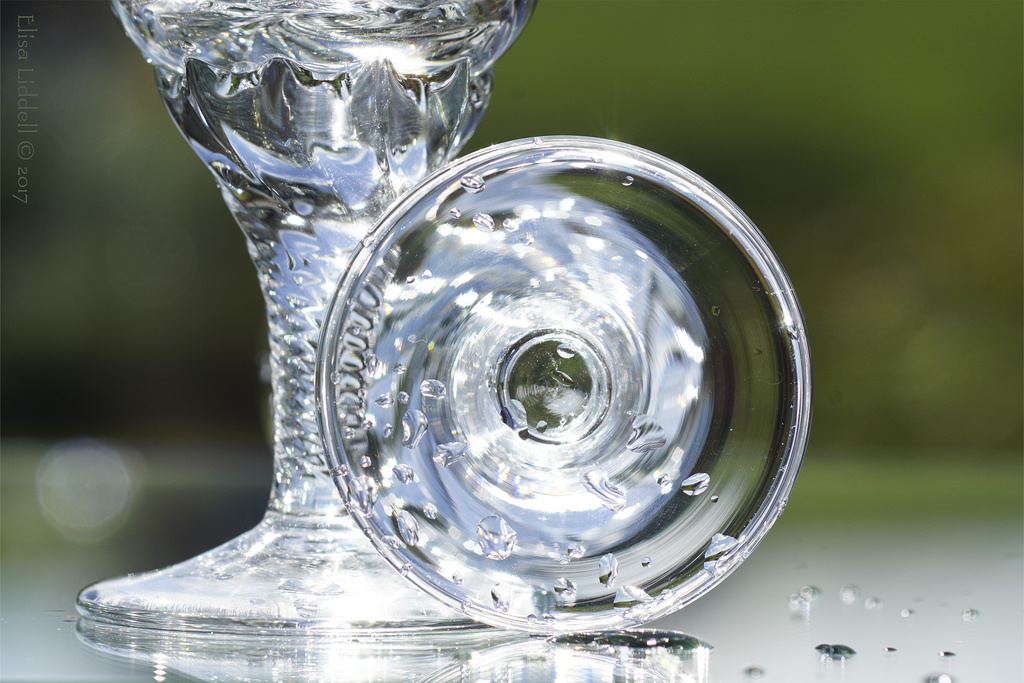glass of water: (168, 7, 601, 651)
